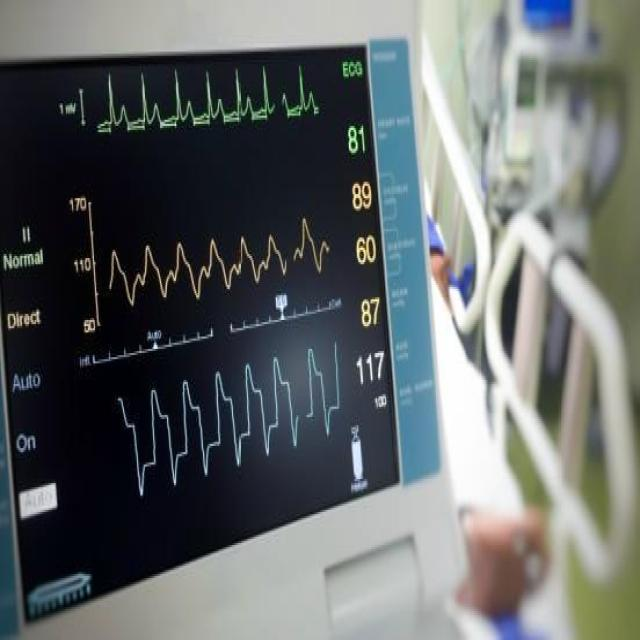Monitor: (0, 32, 463, 640)
